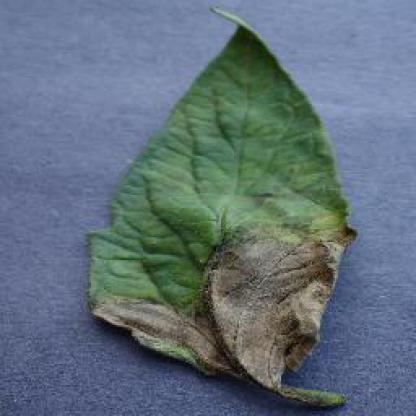bad leaf: (112, 9, 359, 412)
